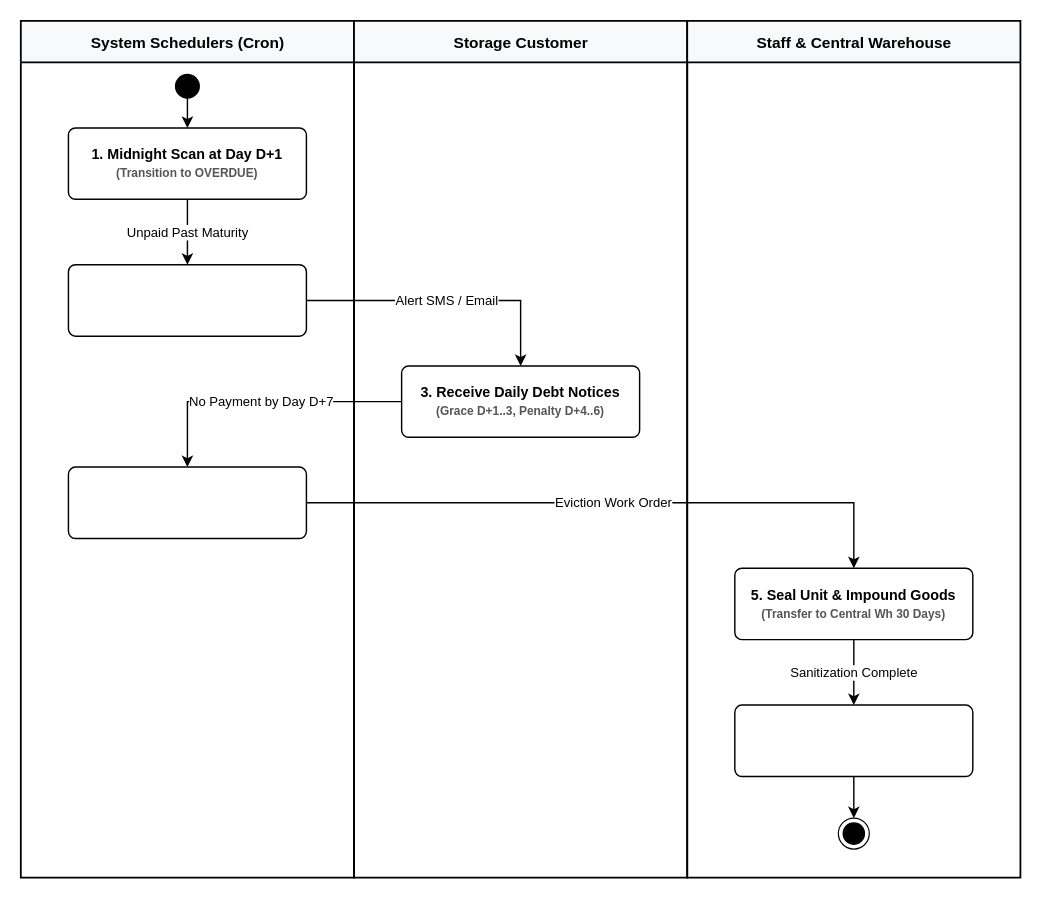
The diagram is 1042 pixels wide and 900 high, and some of its shapes have lost their labels. Here are the shapes that lost their labels. From the top down, the centre of each, then its label:
pixel 187 299: 2. Suspend Smart Lock PIN ("No Pay, No PIN" BR-OVD-01)
pixel 187 502: 4. Day D+7: Terminate Contract (100% Deposit Liquidated)
pixel 853 740: 6. Release Unit: AVAILABLE (Day D+8, Buffer: 8 Days)
